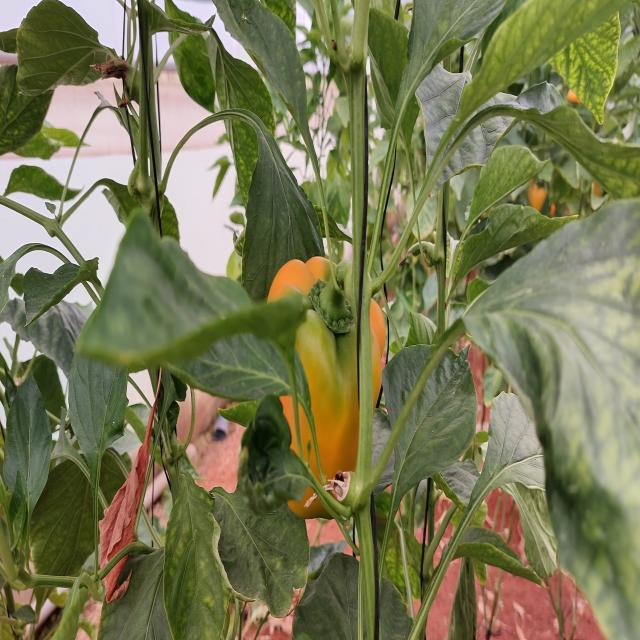Yellow-Ready-to-Harvest: (267, 262, 386, 521)
